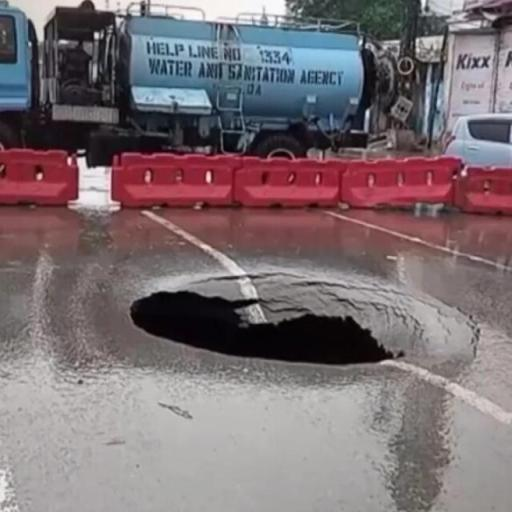Concentric_Crack: (130, 266, 479, 368)
